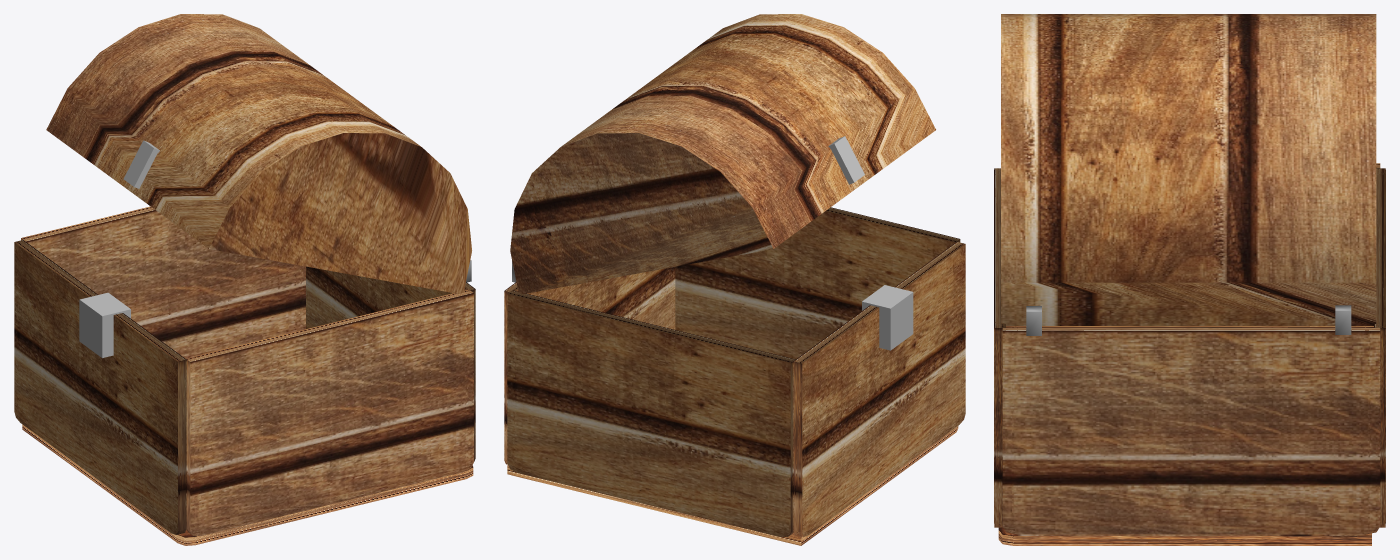
File: TreasureChest_3.fbx
The picture shows the model from 3 angles, left to right: view 1: azimuth 30°, elevation 25°; view 2: azimuth 150°, elevation 25°; view 3: azimuth 270°, elevation 25°; orthographic projection. The views are drawn at different scales.
Visible parts, largest first — view 1: pCube10; view 2: pCube10; view 3: pCube10.
Part boxes in pixels (x1,y1,x2,y2): pCube10: (14, 14, 475, 545); pCube10: (504, 14, 965, 545); pCube10: (994, 14, 1385, 545).
Bounding box in the file's own units: 25.27 × 28.71 × 23.55.
